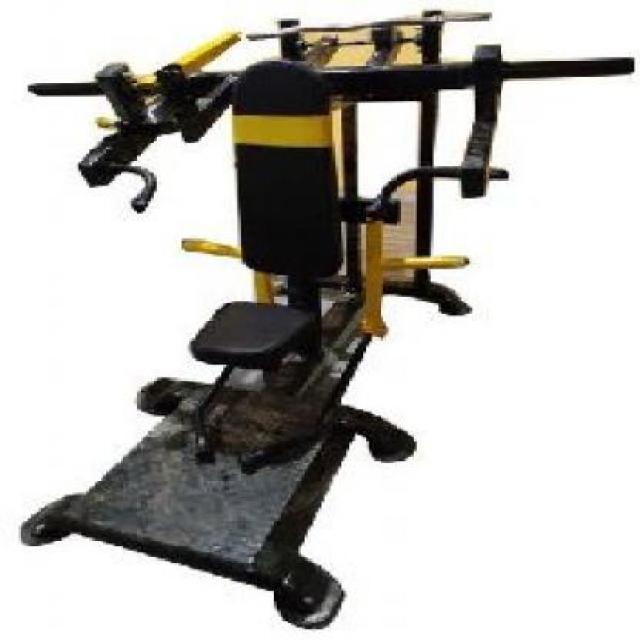shoulder press machine: (25, 8, 629, 624)
